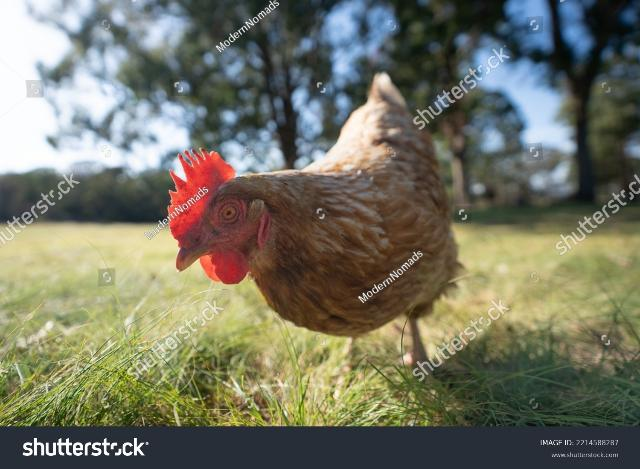Chicken: (167, 71, 463, 367)
